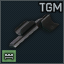M1911A1 NcSTAR trigger guard mount: (0, 0, 64, 64)
